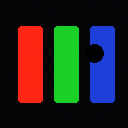2 circle: (85, 44, 103, 62)
